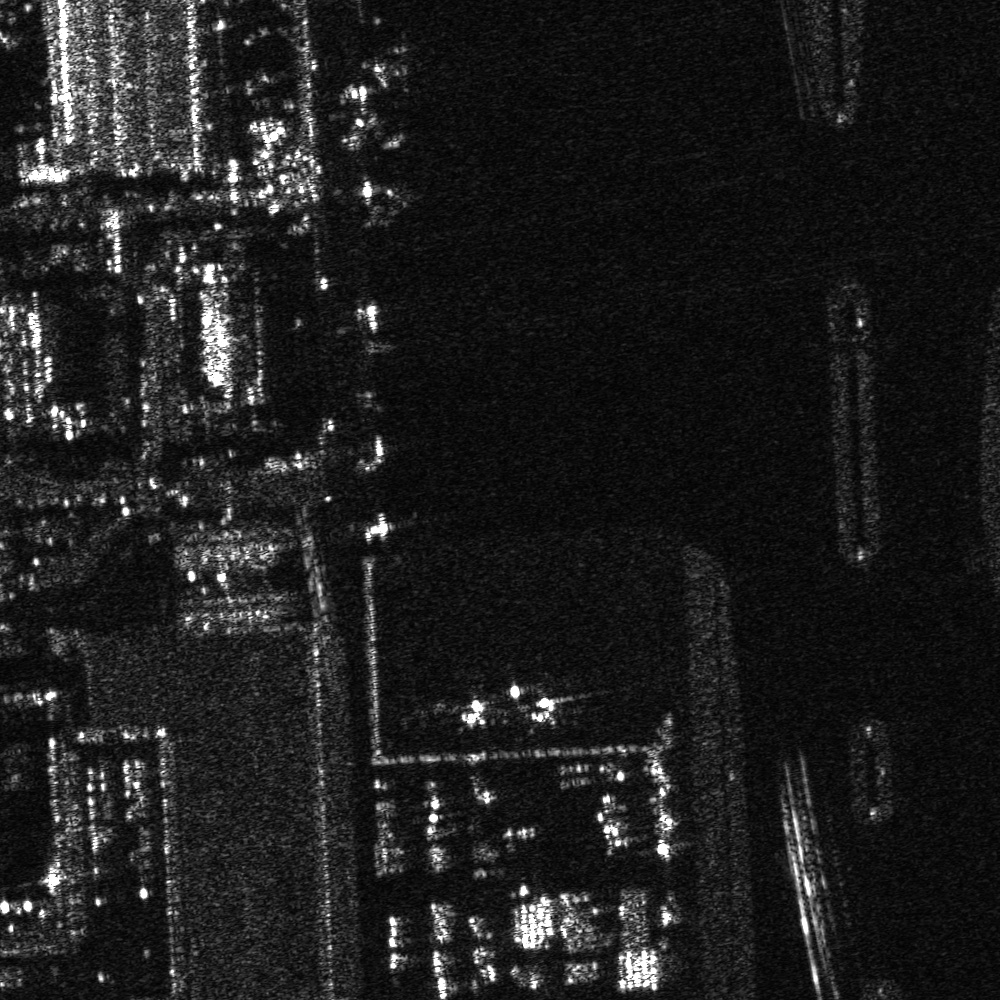ARJ21: (442, 679, 507, 736)
other: (357, 28, 439, 93), (512, 682, 583, 734)
